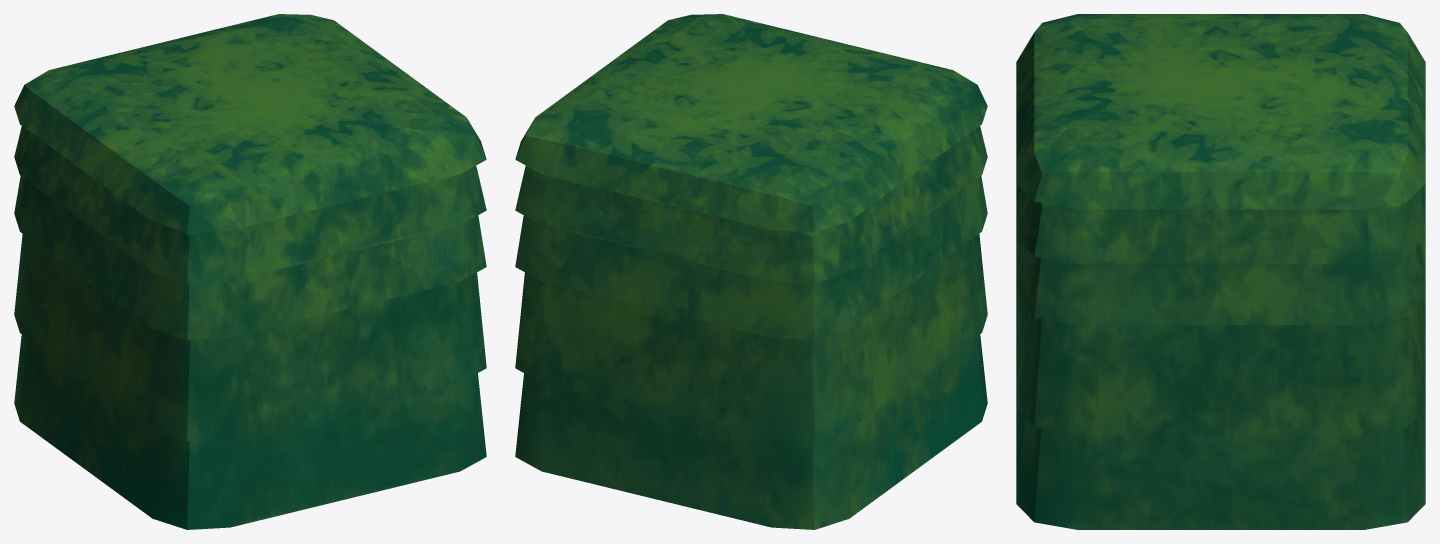
File: Shrub_spuare_map.fbx
The picture shows the model from 3 angles, left to right: view 1: azimuth 30°, elevation 25°; view 2: azimuth 150°, elevation 25°; view 3: azimuth 270°, elevation 25°; orthographic projection. The views are drawn at different scales.
Parts seen in each view (by area): view 1: Shrub_spuare; view 2: Shrub_spuare; view 3: Shrub_spuare.
Boxes of the visible parts, <box> form: Shrub_spuare: <box>14,14,486,529</box>; Shrub_spuare: <box>515,14,987,529</box>; Shrub_spuare: <box>1016,14,1425,529</box>.
Size of the model in its own units: 148 by 145 by 148.
1 material, 1 textured.
